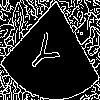Y: (25, 24, 66, 80)
